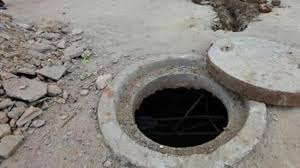manhole: (91, 15, 285, 168)
